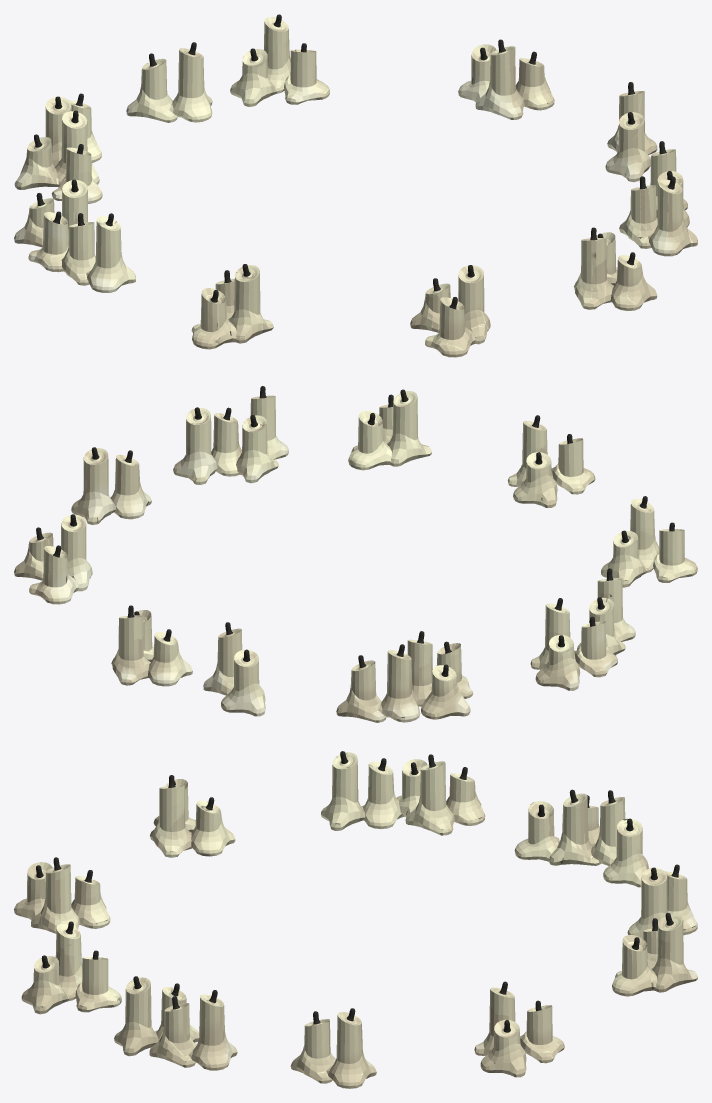
Rendered from summoning.fbx.
3 views of the same model, one above another, from view 1: azimuth 30°, elevation 25°; view 2: azimuth 150°, elevation 25°; view 3: azimuth 270°, elevation 25° (orthographic). The views are drawn at different scales.
Parts seen in each view (by area): view 1: SummCircle; view 2: SummCircle; view 3: SummCircle.
Boxes of the visible parts, bbox=[...] form: SummCircle: bbox=[14, 14, 697, 357]; SummCircle: bbox=[14, 386, 697, 722]; SummCircle: bbox=[14, 751, 697, 1088].
Size of the model in its own units: 12580 by 1502 by 12642.
